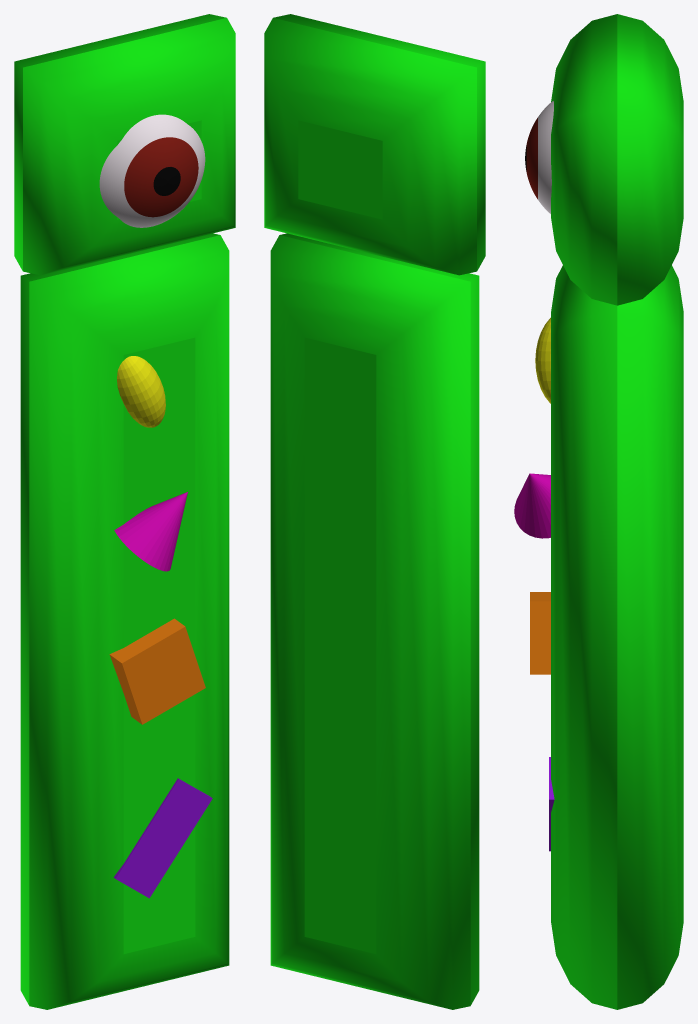
File: i_green.fbx
The picture shows the model from 3 angles, left to right: view 1: azimuth 30°, elevation 25°; view 2: azimuth 150°, elevation 25°; view 3: azimuth 270°, elevation 25°; orthographic projection. The views are drawn at different scales.
Parts seen in each view (by area): view 1: Text, Sphere, Cube, Cube.001, Cone, Sphere.002; view 2: Text; view 3: Text, Sphere, Cone, Cube, Sphere.002.
Boxes of the visible parts, x1,y1,x2,y2 form: Text: [14, 14, 235, 1009]; Sphere: [99, 114, 205, 227]; Cube: [109, 618, 205, 724]; Cube.001: [113, 778, 212, 898]; Cone: [114, 492, 187, 571]; Sphere.002: [117, 356, 165, 427]; Text: [264, 14, 485, 1009]; Text: [551, 14, 683, 1009]; Sphere: [525, 101, 553, 213]; Cone: [514, 473, 550, 538]; Cube: [530, 592, 550, 674]; Sphere.002: [535, 317, 550, 403].
Bounding box in the file's own units: 33.68 × 148 × 25.21.
